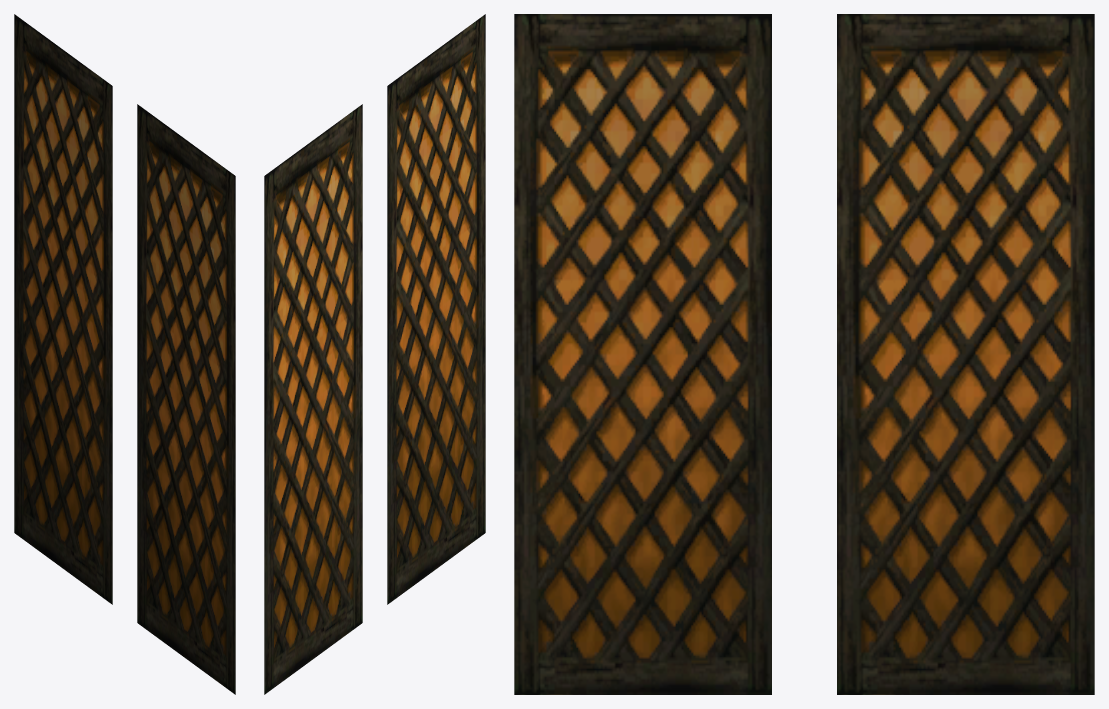
The model's file is LAKETOWN_EXTERIOR_PS_LT_WINDOWS2287.fbx.
The picture shows the model from 3 angles, left to right: view 1: azimuth 30°, elevation 25°; view 2: azimuth 150°, elevation 25°; view 3: azimuth 270°, elevation 25°; orthographic projection. The views are drawn at different scales.
Visible parts, largest first — view 1: LAKETOWN_EXTERIOR_PS_LT_WINDOWS2287; view 2: LAKETOWN_EXTERIOR_PS_LT_WINDOWS2287; view 3: LAKETOWN_EXTERIOR_PS_LT_WINDOWS2287.
Boxes of the visible parts, <box> form: LAKETOWN_EXTERIOR_PS_LT_WINDOWS2287: <box>14,14,235,694</box>; LAKETOWN_EXTERIOR_PS_LT_WINDOWS2287: <box>264,14,485,694</box>; LAKETOWN_EXTERIOR_PS_LT_WINDOWS2287: <box>514,14,1094,694</box>.
Bounding box in the file's own units: 0.0244 × 20843 × 16107.
Materials: 1 (1 with a texture image).
